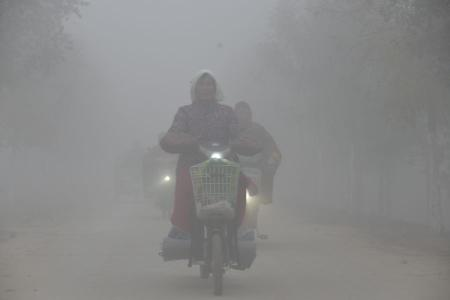person: (167, 64, 241, 223), (232, 99, 281, 204), (144, 133, 182, 208)
